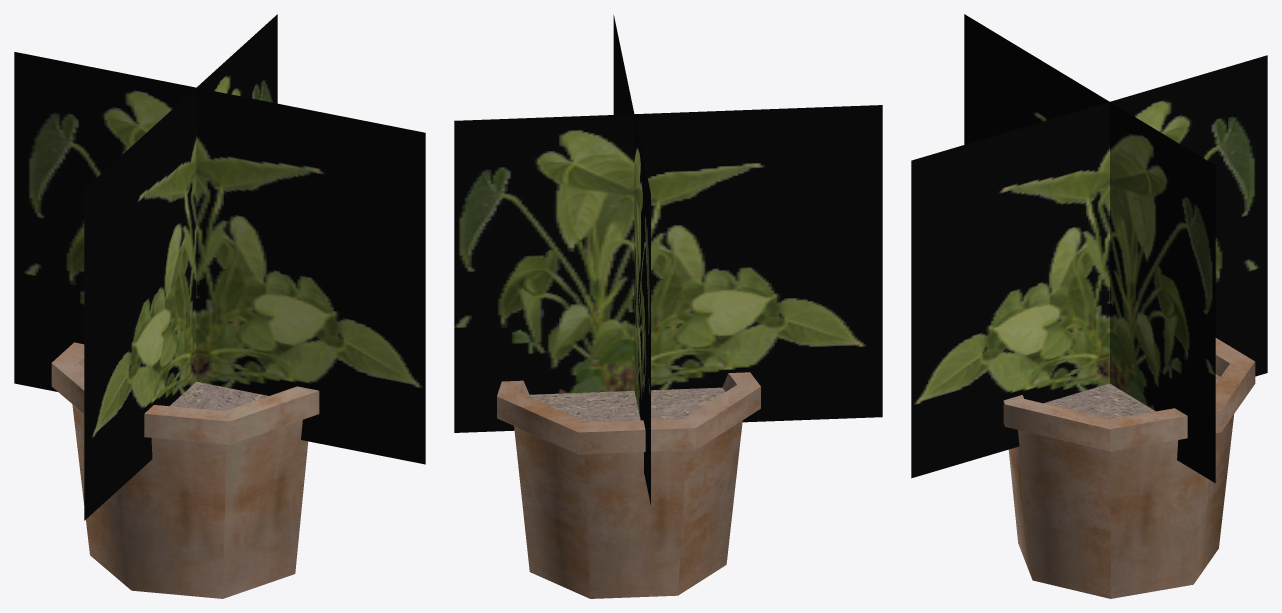
The picture shows the model from 3 angles, left to right: view 1: azimuth 30°, elevation 25°; view 2: azimuth 150°, elevation 25°; view 3: azimuth 270°, elevation 25°; orthographic projection. The views are drawn at different scales.
Parts seen in each view (by area): view 1: Plants_02003_Plants002_0, Plants_02003_Plaster_02001_0; view 2: Plants_02003_Plants002_0, Plants_02003_Plaster_02001_0; view 3: Plants_02003_Plants002_0, Plants_02003_Plaster_02001_0.
Boxes of the visible parts, x1,y1,x2,y2 form: Plants_02003_Plants002_0: [14, 14, 425, 520]; Plants_02003_Plaster_02001_0: [51, 342, 319, 598]; Plants_02003_Plants002_0: [454, 15, 882, 504]; Plants_02003_Plaster_02001_0: [497, 372, 760, 598]; Plants_02003_Plants002_0: [911, 14, 1267, 483]; Plants_02003_Plaster_02001_0: [1003, 338, 1255, 598].
Size of the model in its own units: 0.696 by 0.966 by 0.6907.
Materials: 2 (2 with a texture image).
